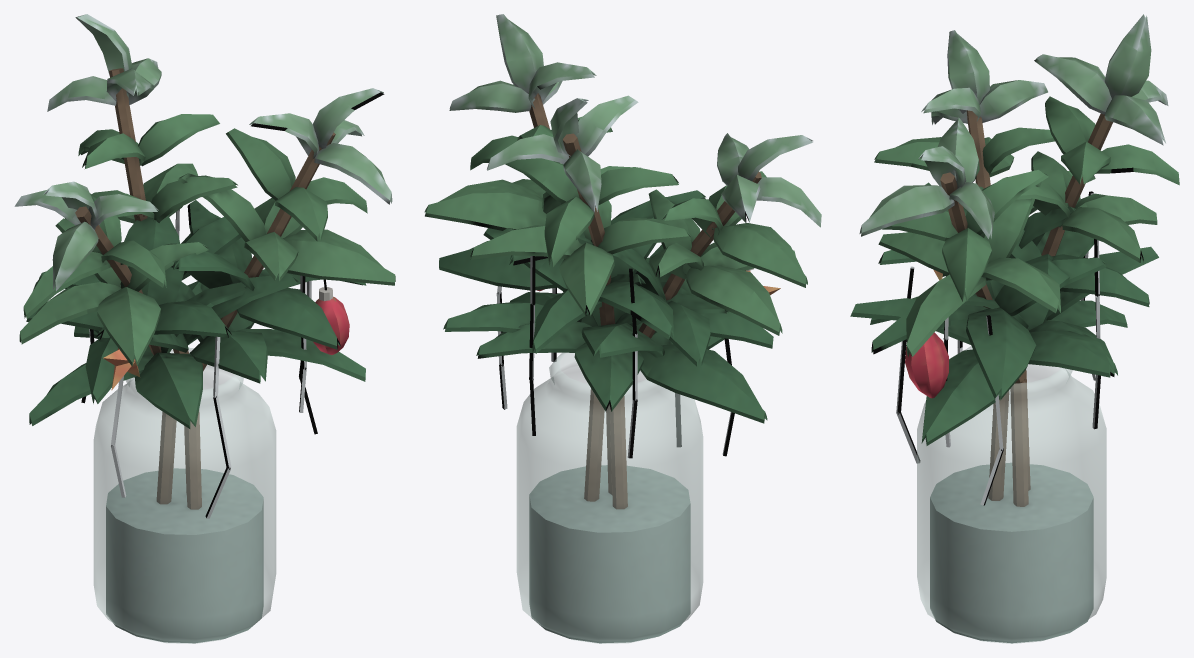
Rendered from table_fir_jar.glb.
The picture shows the model from 3 angles, left to right: view 1: azimuth 30°, elevation 25°; view 2: azimuth 150°, elevation 25°; view 3: azimuth 270°, elevation 25°; orthographic projection. The views are drawn at different scales.
Visible parts, largest first — view 1: table_fir_jar, glass_jar_3l; view 2: table_fir_jar, glass_jar_3l; view 3: table_fir_jar, glass_jar_3l.
Boxes of the visible parts, <box> form: table_fir_jar: <box>14,14,395,643</box>; glass_jar_3l: <box>93,347,276,643</box>; table_fir_jar: <box>424,14,821,643</box>; glass_jar_3l: <box>516,352,703,643</box>; table_fir_jar: <box>850,14,1179,643</box>; glass_jar_3l: <box>917,346,1106,643</box>.
Bounding box in the file's own units: 0.3555 × 0.5436 × 0.2815.
Materials: 2 (1 with a texture image).
